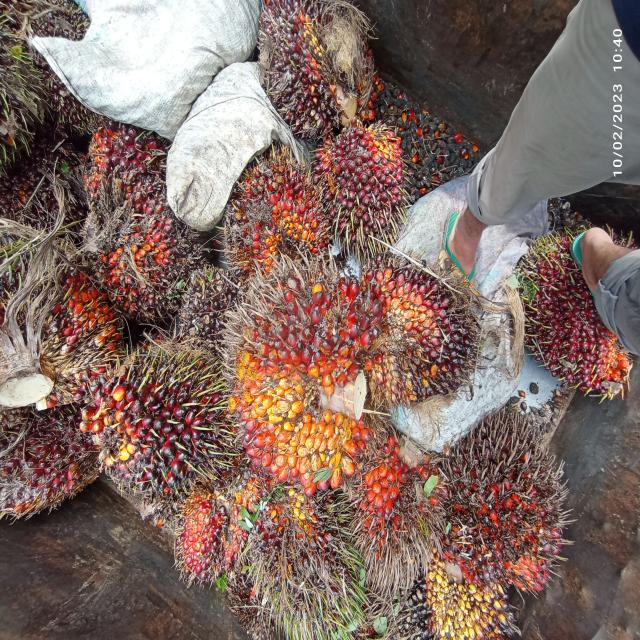fraksi 00: (366, 231, 480, 442), (244, 471, 359, 638), (258, 0, 361, 133)
fraksi 1: (84, 342, 232, 512), (323, 112, 407, 257), (86, 118, 174, 234), (176, 488, 220, 600)
fraksi 3: (219, 259, 393, 499), (514, 214, 638, 410), (220, 132, 326, 280), (98, 212, 188, 312)
fraksi 4: (440, 394, 578, 595), (348, 434, 433, 566)
